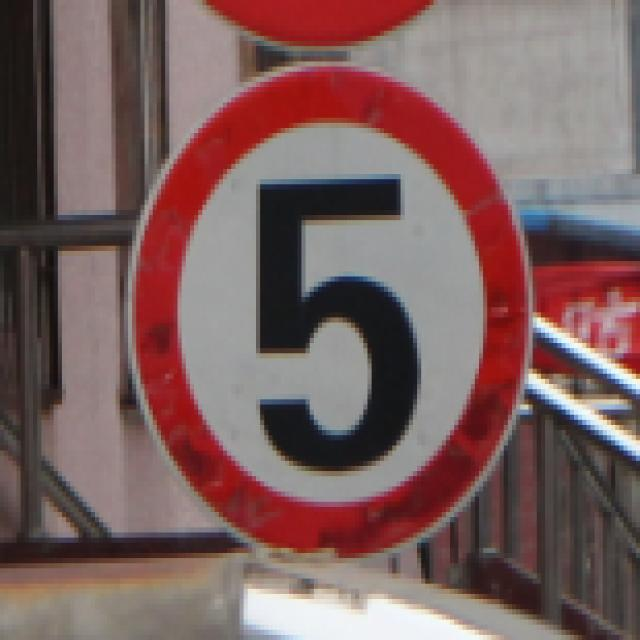Speed: (110, 53, 554, 566)
